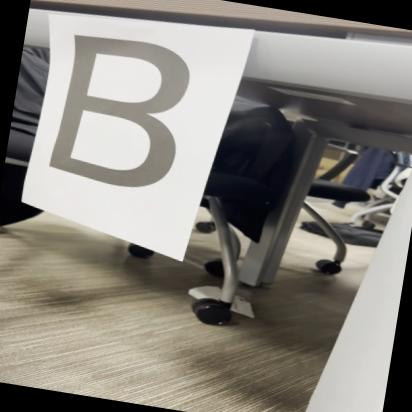seat: (32, 21, 218, 206)
